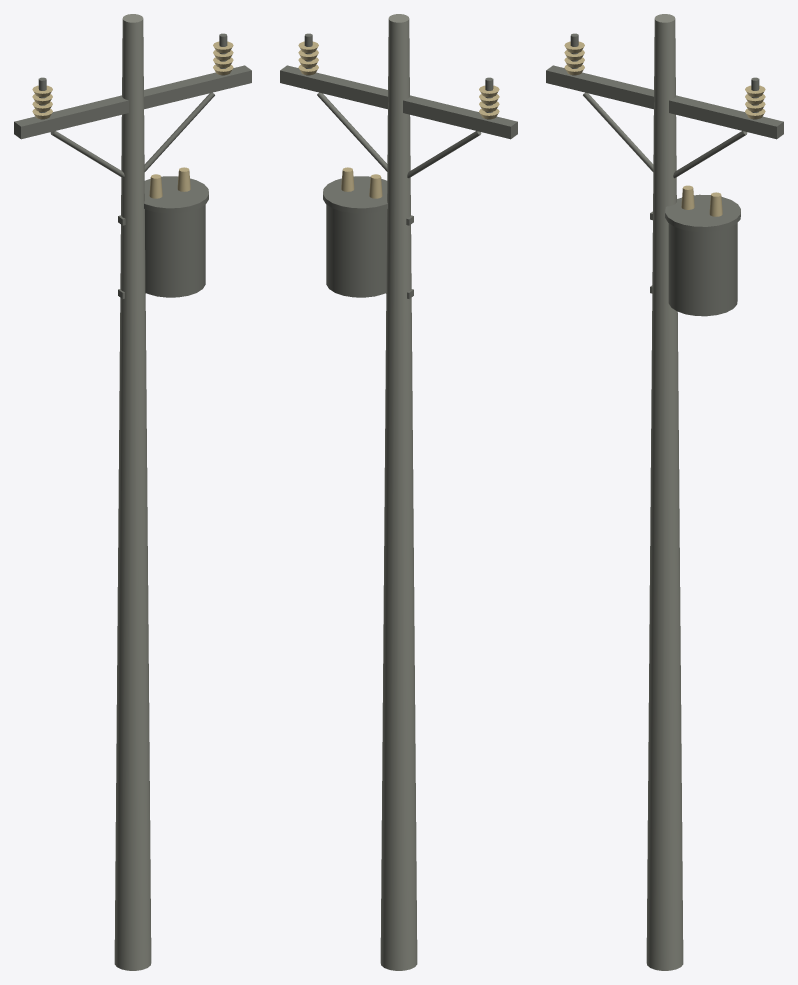
Rendered from pole.glb.
3 renders of one model, left to right at view 1: azimuth 30°, elevation 25°; view 2: azimuth 150°, elevation 25°; view 3: azimuth 330°, elevation 25°, orthographic.
Visible parts, largest first — view 1: stone, metal, paper; view 2: stone, metal, paper; view 3: stone, metal, paper.
Part boxes in pixels (x1,y1,x2,y2): stone: [114, 14, 151, 970]; metal: [14, 33, 251, 298]; paper: [32, 41, 233, 198]; stone: [380, 14, 417, 970]; metal: [280, 33, 517, 298]; paper: [298, 41, 499, 198]; stone: [646, 14, 683, 970]; metal: [546, 33, 783, 316]; paper: [564, 41, 765, 216].
Bounding box in the file's own units: 2.3 × 9 × 0.66.
